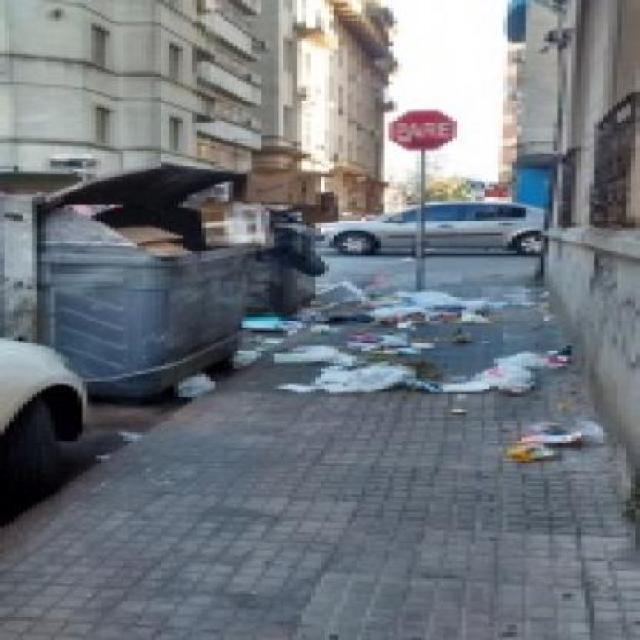garbage: (271, 331, 577, 392), (306, 270, 503, 329), (503, 408, 618, 464)
